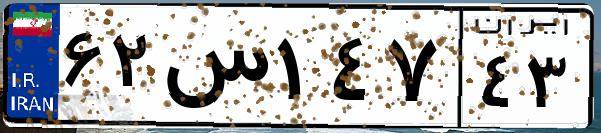1: (270, 28, 330, 110)
2: (110, 28, 158, 98)
3: (525, 38, 570, 115)
4: (330, 28, 385, 110), (475, 38, 525, 113)
6: (57, 26, 110, 100)
7: (385, 28, 445, 110)
س: (158, 20, 270, 120)
